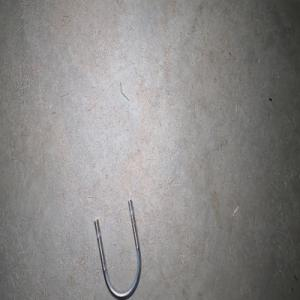ClampPart: (93, 198, 142, 300)
